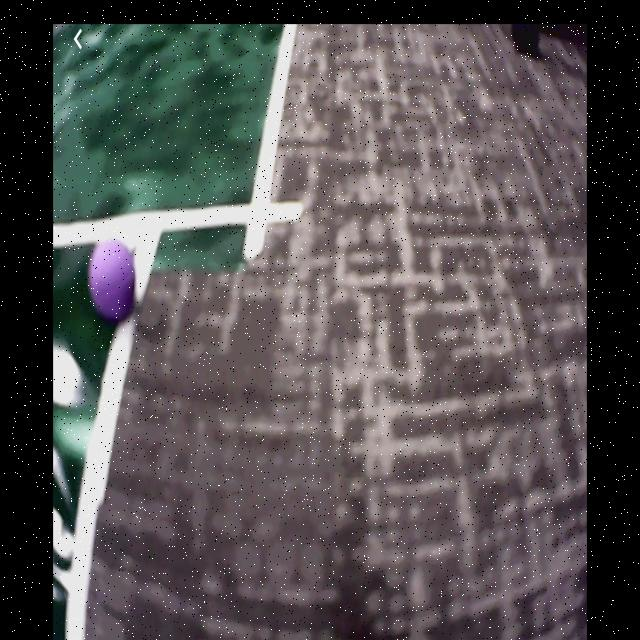ball: (90, 241, 138, 324)
